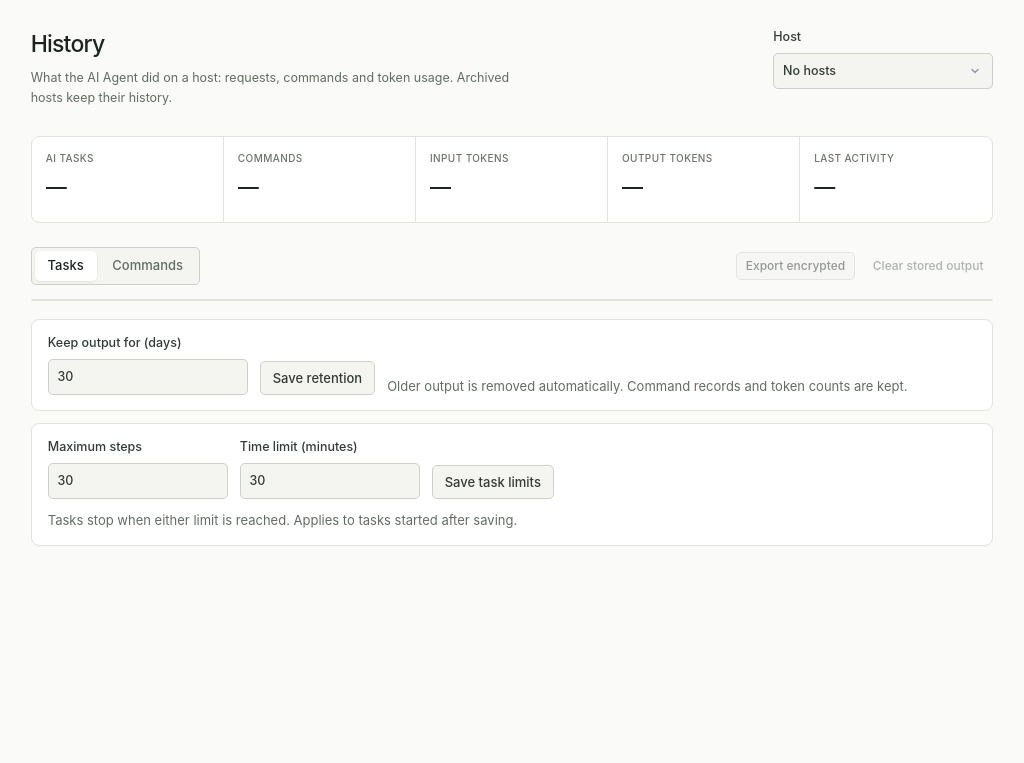
Test: HostHistoryTab › lists the chosen host history, including archived hosts
Click the button "Commands". click: (148, 266)
box: [100,251,196,281]
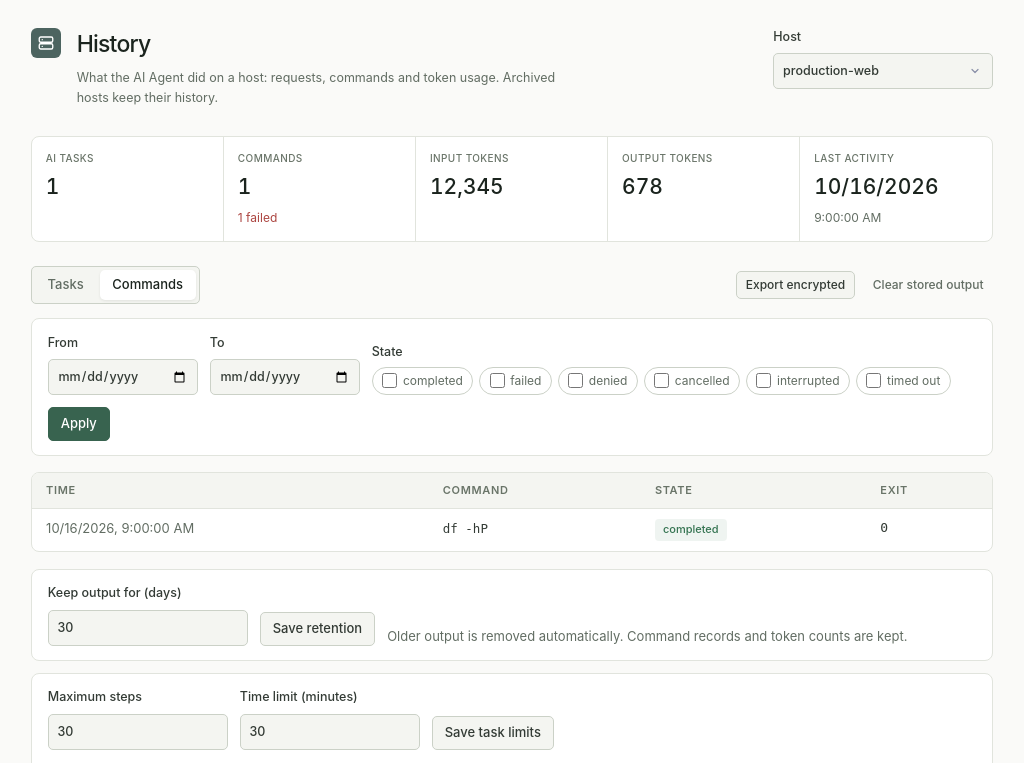
Result: the text "df -hP" is shown at [443,521,488,536]
